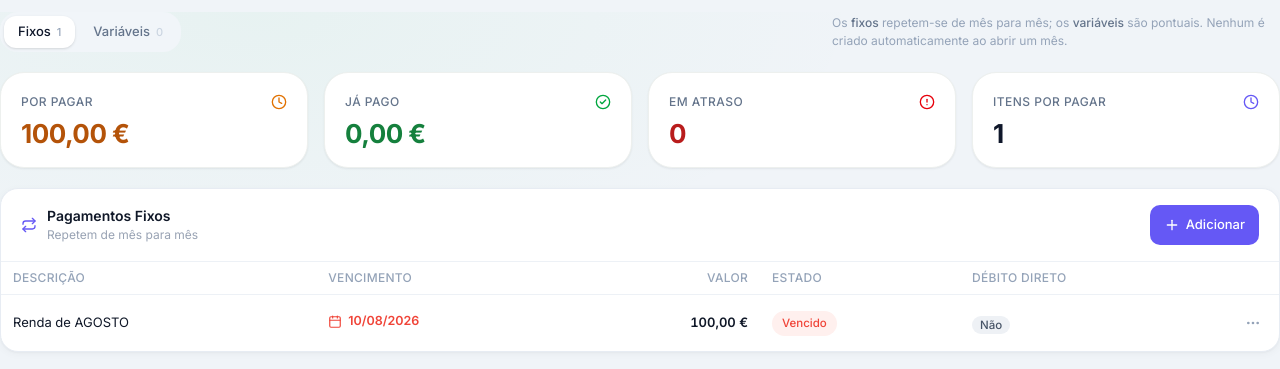
it: PaymentsClient ao mudar de período › mudar de mês fecha o formulário do mês anterior
Click the button "Adicionar" at point(1204, 224), box x1=1150 y1=204 x2=1259 y2=244
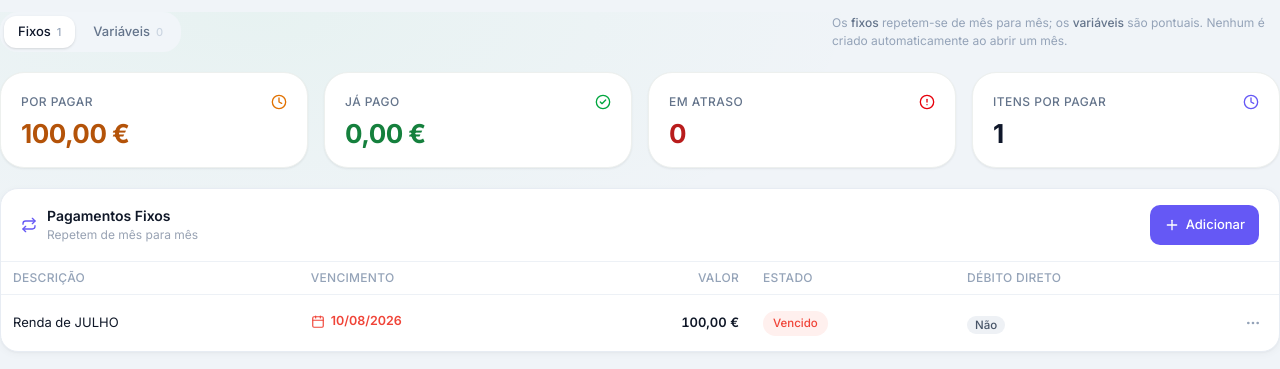
Check: the text "Renda de JULHO" is shown, box x1=13 y1=314 x2=119 y2=330
